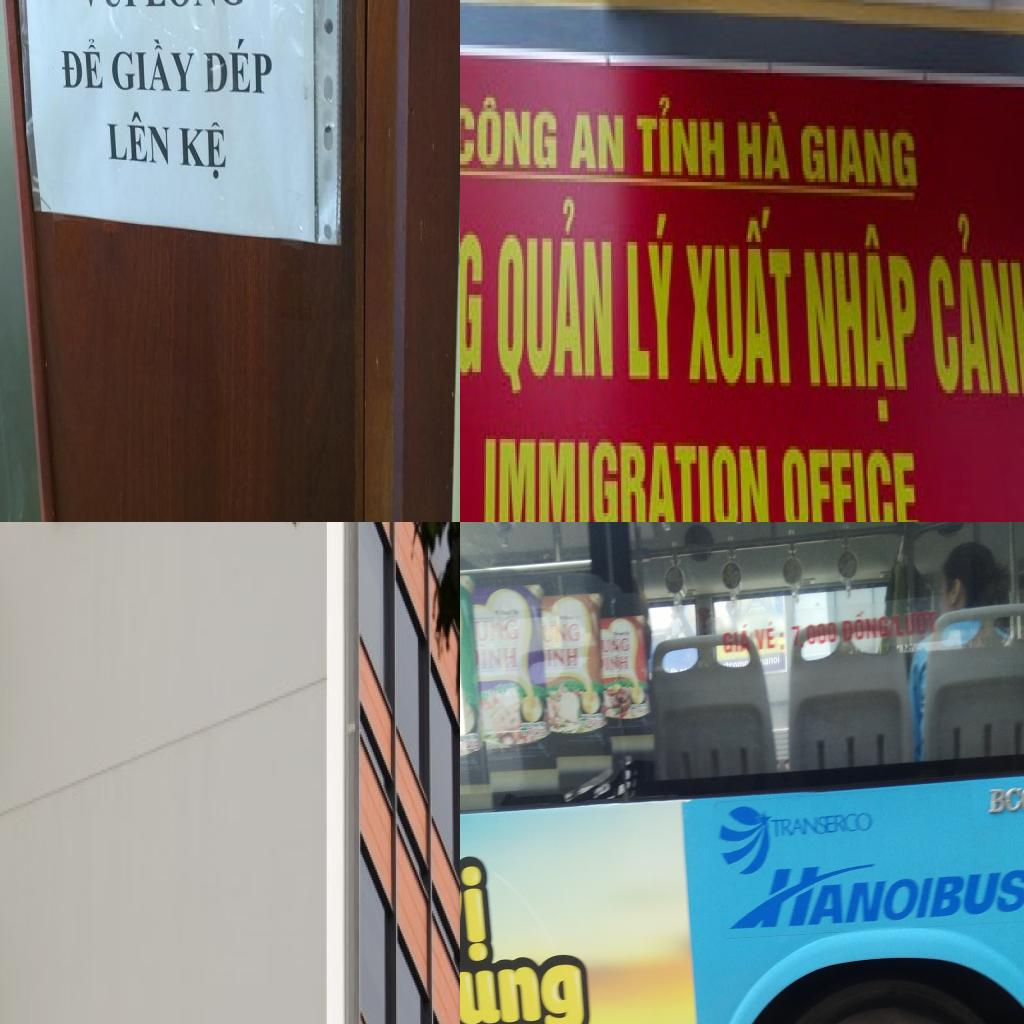text: (800, 221, 924, 432), (724, 851, 1024, 938), (481, 435, 774, 522), (494, 196, 614, 400), (683, 206, 801, 390), (919, 206, 1024, 407), (782, 446, 924, 522), (624, 210, 680, 386), (799, 122, 923, 196), (460, 955, 591, 1024), (634, 94, 728, 182), (460, 97, 561, 175), (110, 34, 198, 100), (732, 104, 796, 186), (103, 106, 173, 176), (202, 38, 274, 102), (460, 847, 498, 962), (568, 112, 628, 178), (771, 806, 876, 840), (57, 34, 106, 96), (788, 617, 839, 650), (841, 612, 889, 644), (895, 608, 940, 640), (986, 780, 1024, 817), (753, 618, 786, 652), (475, 618, 520, 642), (720, 622, 752, 654), (480, 646, 522, 670), (542, 623, 580, 644), (545, 646, 581, 668), (76, 0, 138, 11), (600, 636, 630, 654), (758, 654, 782, 668), (886, 612, 896, 640), (483, 687, 501, 701), (501, 686, 513, 697)
